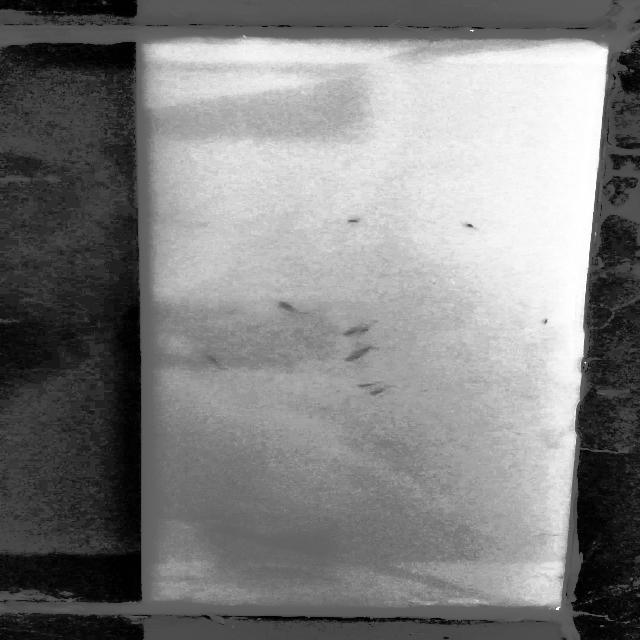shrimp: (200, 351, 237, 368), (275, 298, 304, 313), (458, 220, 491, 233), (467, 601, 510, 610), (346, 353, 370, 362), (342, 218, 375, 224), (356, 344, 380, 352), (371, 388, 390, 396), (358, 381, 379, 388), (358, 325, 374, 334), (342, 327, 359, 335), (544, 318, 552, 324)
